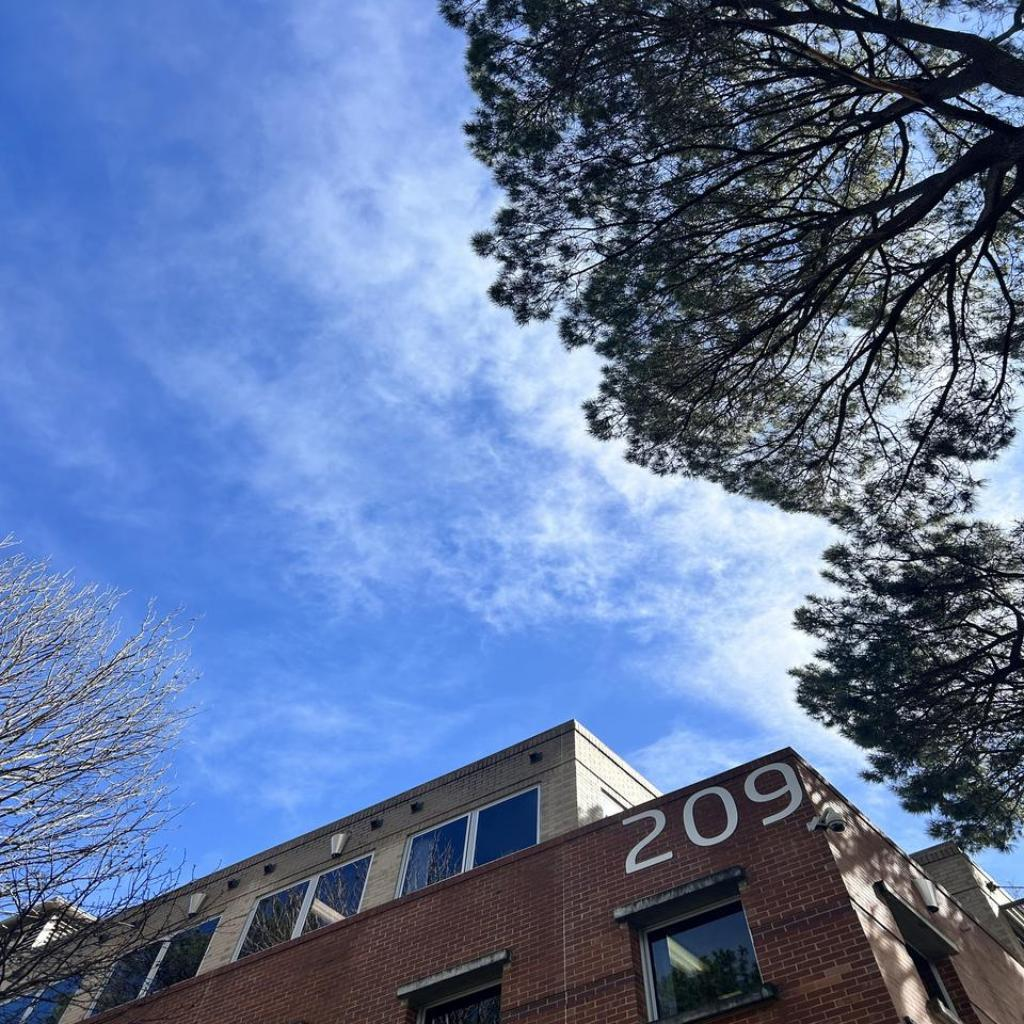BuildingCodes: (622, 760, 804, 876)
